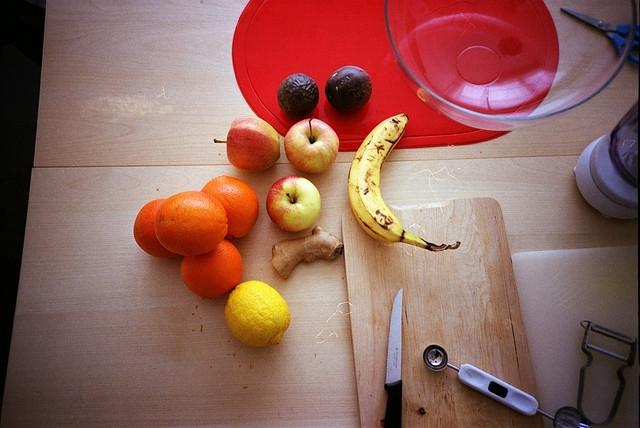apple: (213, 115, 280, 172), (284, 118, 340, 174), (266, 175, 321, 231)
banana: (348, 114, 461, 252)
lemon: (224, 280, 290, 348)
